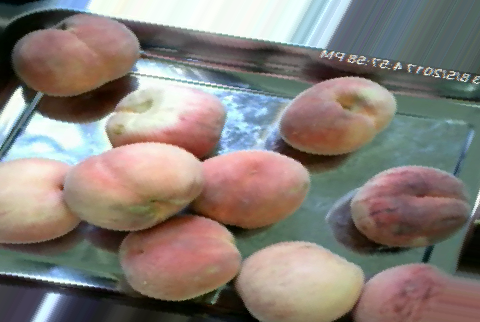Peach: (63, 140, 201, 227), (9, 12, 143, 97), (118, 213, 238, 301), (237, 239, 363, 322), (348, 164, 472, 248), (189, 149, 309, 229), (279, 75, 395, 155), (105, 80, 226, 156), (354, 263, 476, 322), (0, 158, 82, 244)
